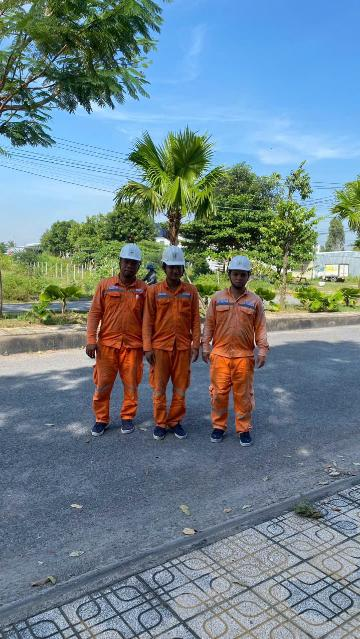shoes: (154, 245, 192, 274), (108, 241, 147, 264), (218, 255, 257, 273), (91, 416, 111, 445), (115, 419, 139, 438), (239, 425, 257, 450), (173, 419, 191, 439), (211, 428, 231, 444), (152, 424, 168, 439)
